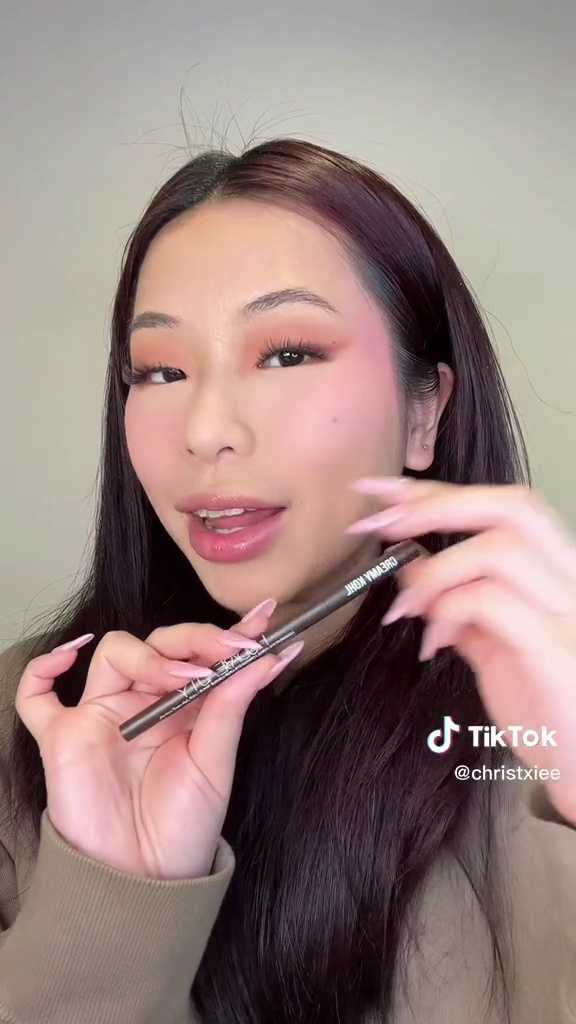train' :'yolo_data/train/images',: (111, 536, 443, 742)
